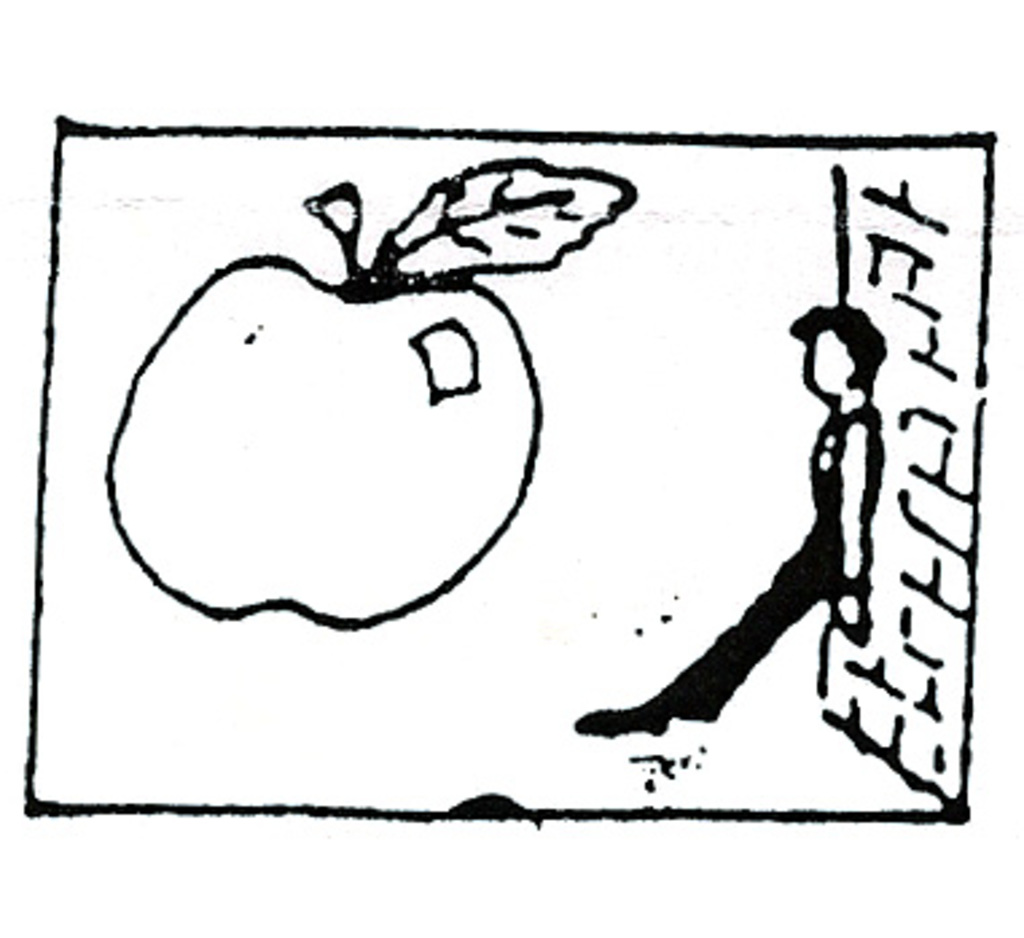Apple: (91, 225, 577, 647)
